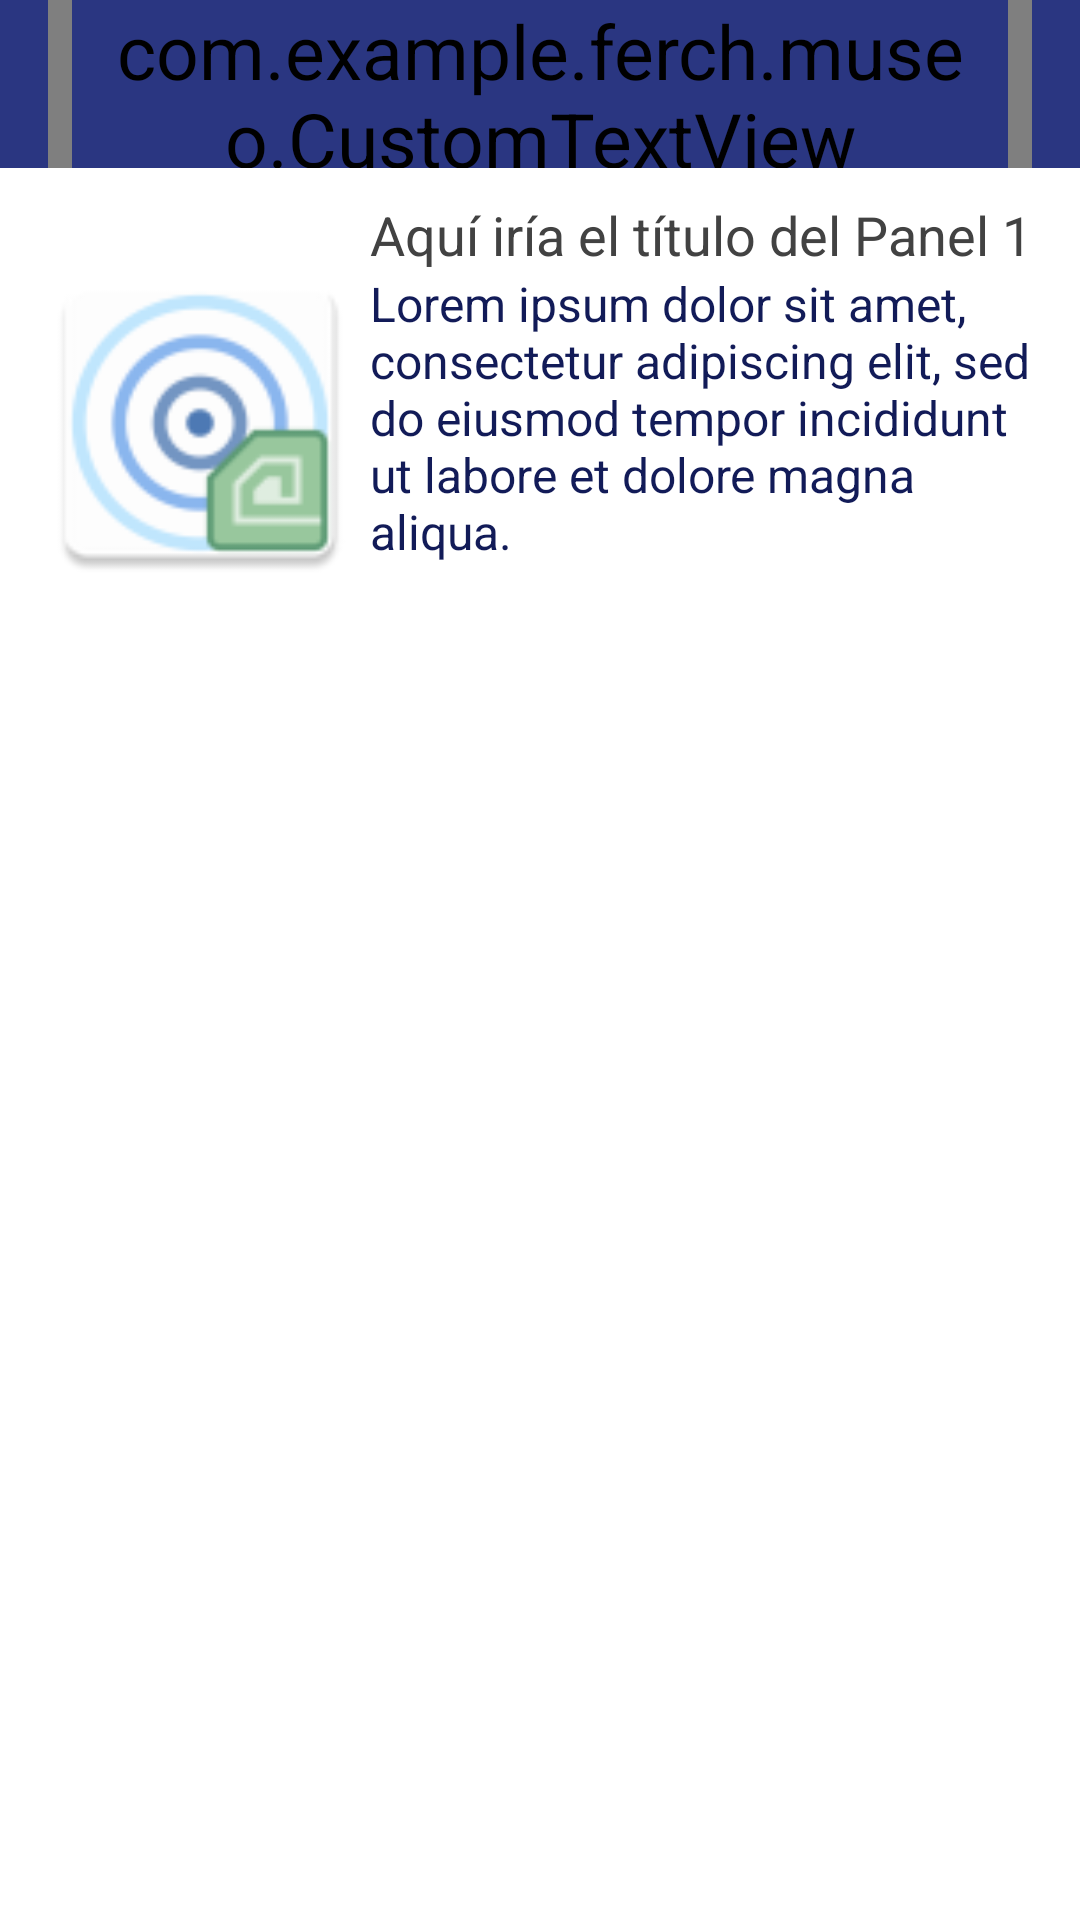

Named icons in this screenshot (1080*1920) and their bounding boxes, {"left": x1, "top": y1, "right": x2, "bottom": y2}:
waiting sensor: {"left": 66, "top": 295, "right": 336, "bottom": 566}
